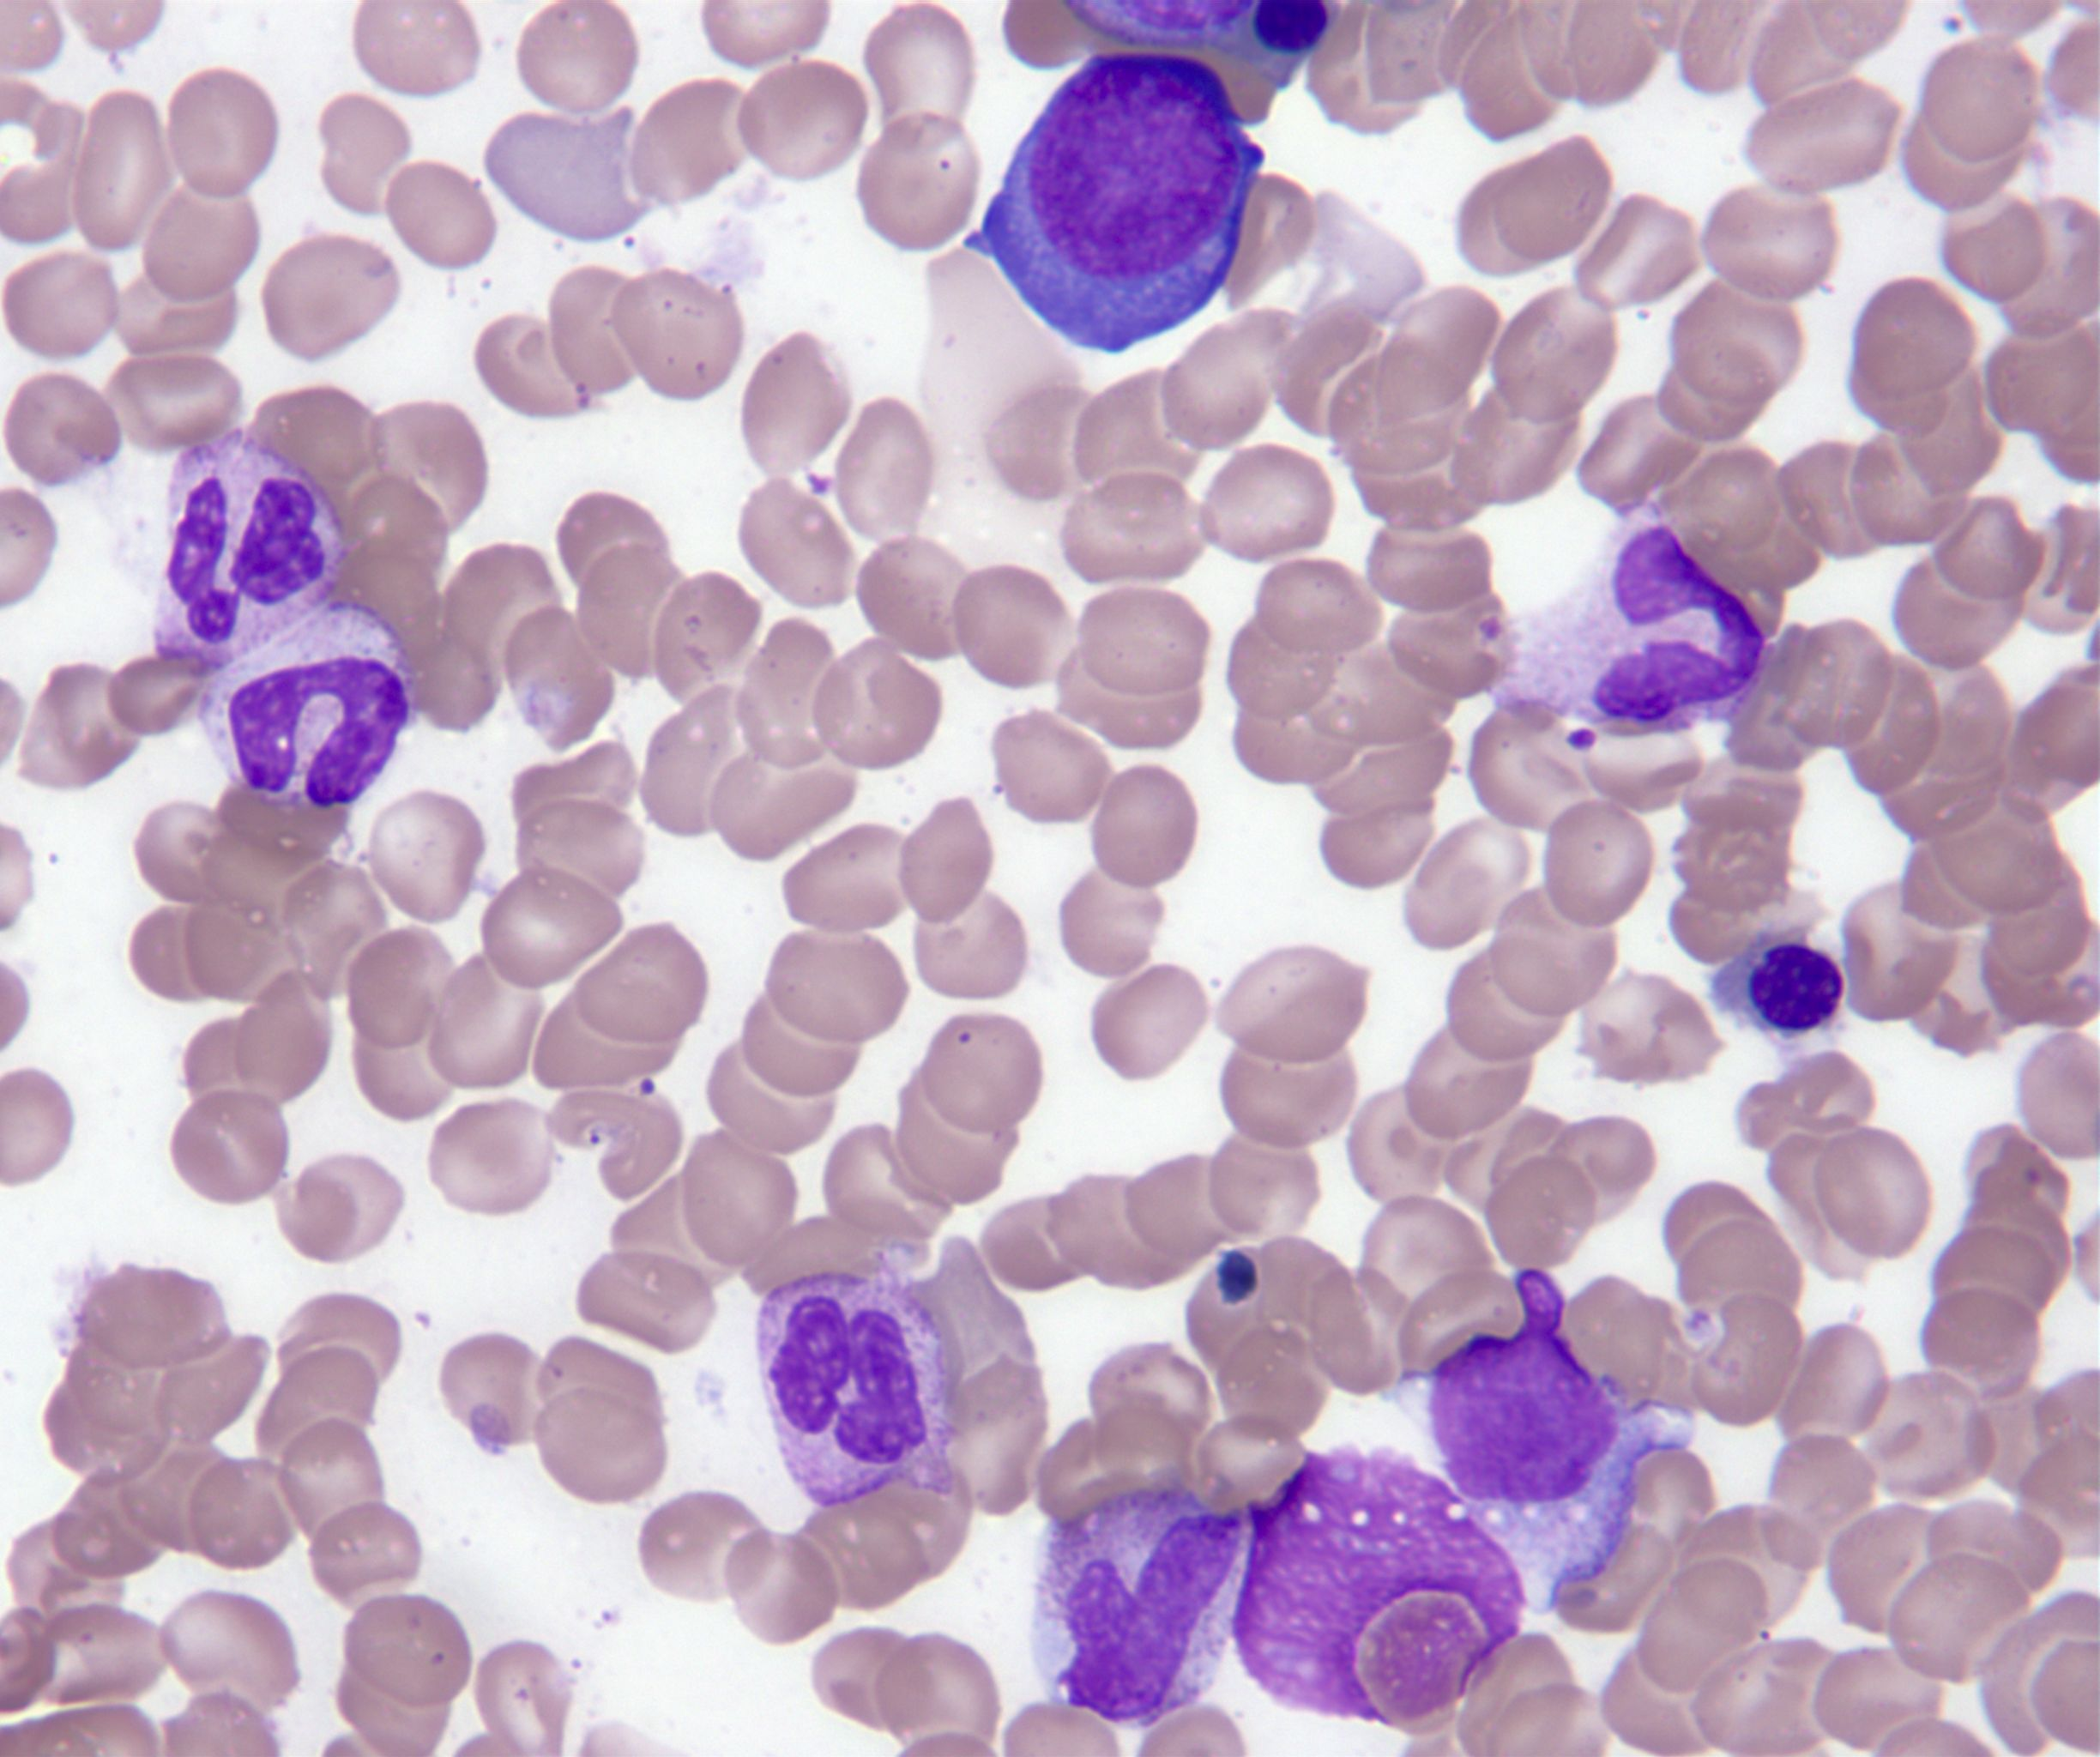21: (961, 54, 1261, 352)
24: (1708, 930, 1844, 1043)
3: (1381, 1268, 1695, 1614)
4: (1029, 1471, 1254, 1731)
5: (1477, 501, 1765, 728), (201, 602, 408, 811)
6: (760, 1274, 959, 1506), (157, 427, 342, 675)
x: (1231, 1446, 1523, 1726), (1217, 0, 1343, 87)
